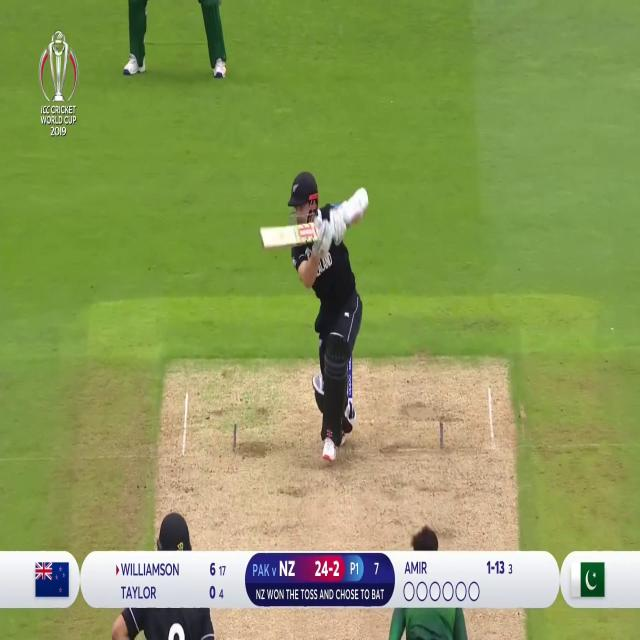bat: (260, 220, 321, 252)
toe: (259, 228, 265, 248)
